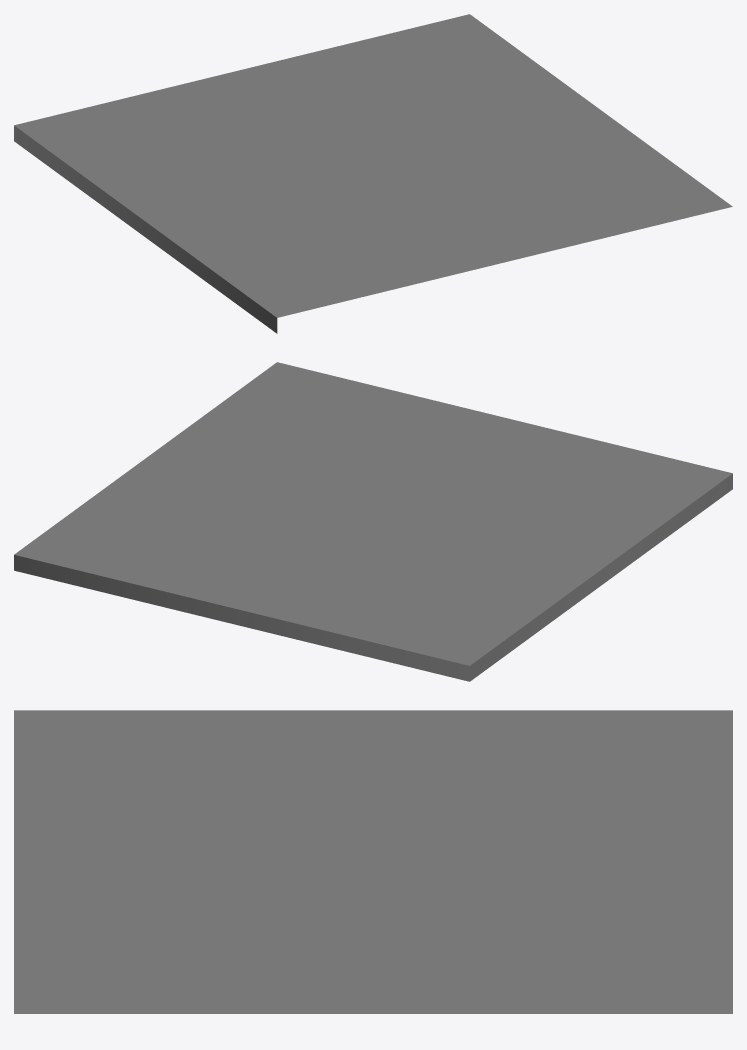
Rendered from q-scifi-mod-bottommetal-corner-square-outer-2.glb.
The picture shows the model from 3 angles, top to bottom: view 1: azimuth 30°, elevation 25°; view 2: azimuth 150°, elevation 25°; view 3: azimuth 270°, elevation 25°; orthographic projection. The views are drawn at different scales.
Visible parts, largest first — view 1: BottomMetal_Corner_Square_Outer_2; view 2: BottomMetal_Corner_Square_Outer_2; view 3: BottomMetal_Corner_Square_Outer_2.
Boxes of the visible parts, x1,y1,x2,y2 form: BottomMetal_Corner_Square_Outer_2: [14, 14, 732, 333]; BottomMetal_Corner_Square_Outer_2: [14, 362, 732, 681]; BottomMetal_Corner_Square_Outer_2: [14, 710, 732, 1013].
Bounding box in the file's own units: 0.6 × 0.02 × 0.6.
2 materials, 2 textured.
